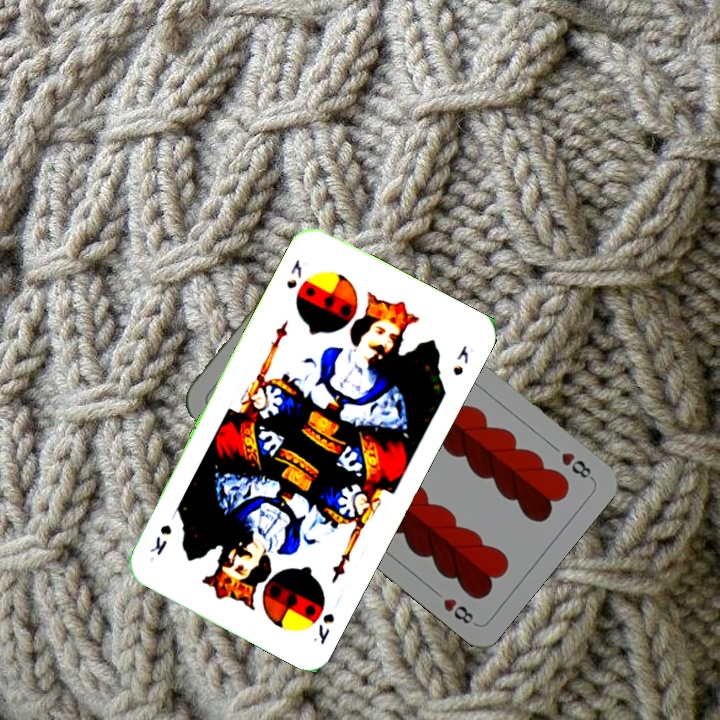H8: (557, 448, 596, 483)
SK: (309, 609, 338, 648), (282, 255, 305, 292)
